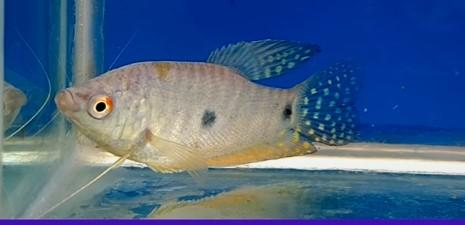Gourami: (39, 38, 364, 224)
